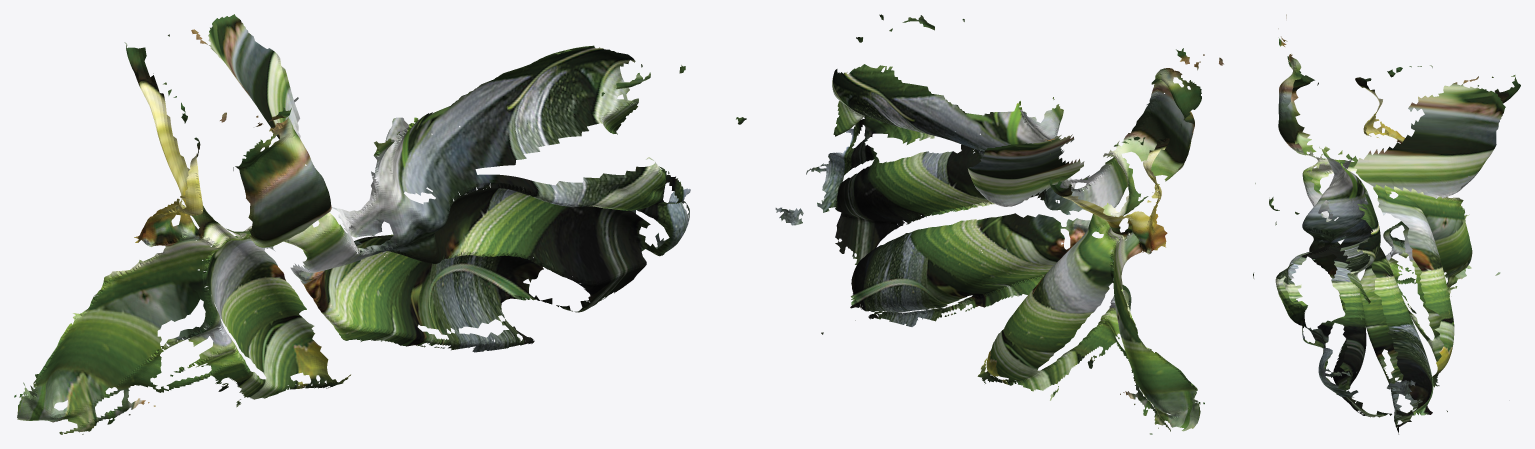
Rendered from cucumber_bush.obj.
The picture shows the model from 3 angles, left to right: view 1: azimuth 30°, elevation 25°; view 2: azimuth 150°, elevation 25°; view 3: azimuth 270°, elevation 25°; orthographic projection. The views are drawn at different scales.
Parts seen in each view (by area): view 1: 4; view 2: 4; view 3: 4.
Part boxes in pixels (bbox=[...]): 4: bbox=[14, 14, 746, 434]; 4: bbox=[775, 14, 1223, 434]; 4: bbox=[1253, 14, 1520, 434].
Size of the model in its own units: 0.4475 by 0.2888 by 0.2352.
